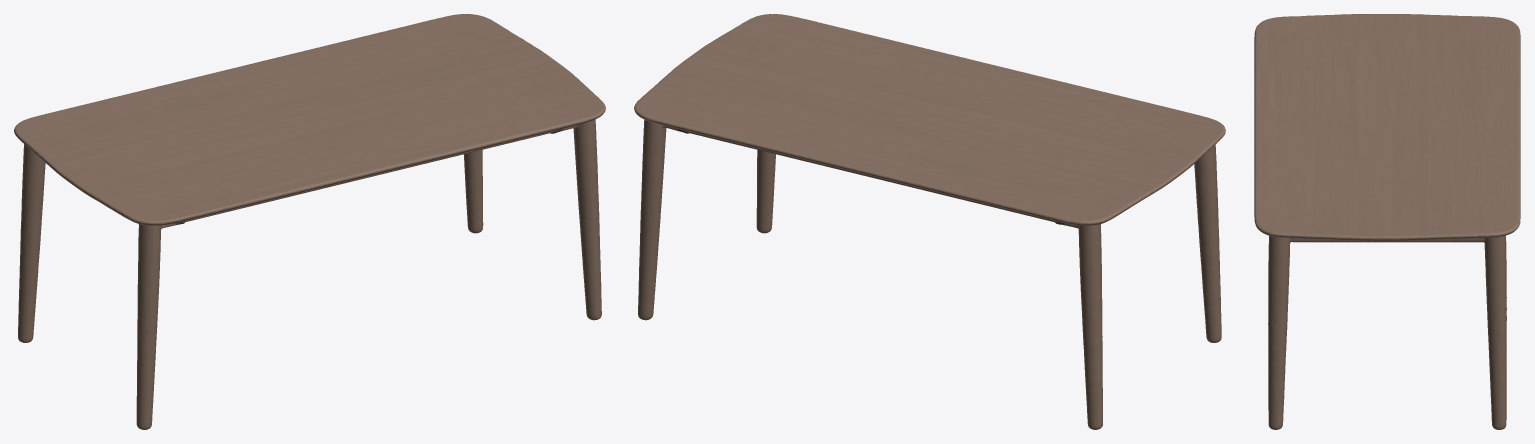
File: desk1.glb
3 renders of one model, left to right at view 1: azimuth 30°, elevation 25°; view 2: azimuth 150°, elevation 25°; view 3: azimuth 270°, elevation 25°, orthographic. The views are drawn at different scales.
Visible parts, largest first — view 1: world; view 2: world; view 3: world.
Boxes of the visible parts, <box> form: world: <box>14,14,605,429</box>; world: <box>634,14,1225,429</box>; world: <box>1254,14,1520,429</box>.
Size of the model in its own units: 1 by 0.4186 by 0.5045.
1 material, 1 textured.
